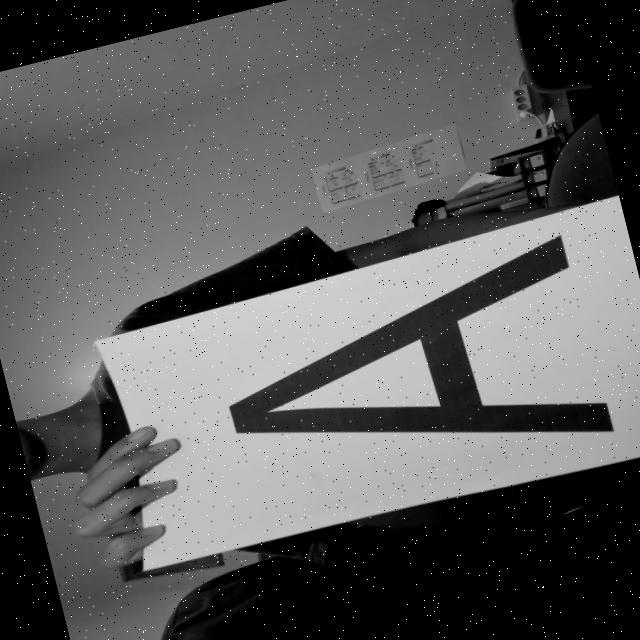a: (184, 223, 636, 528)
